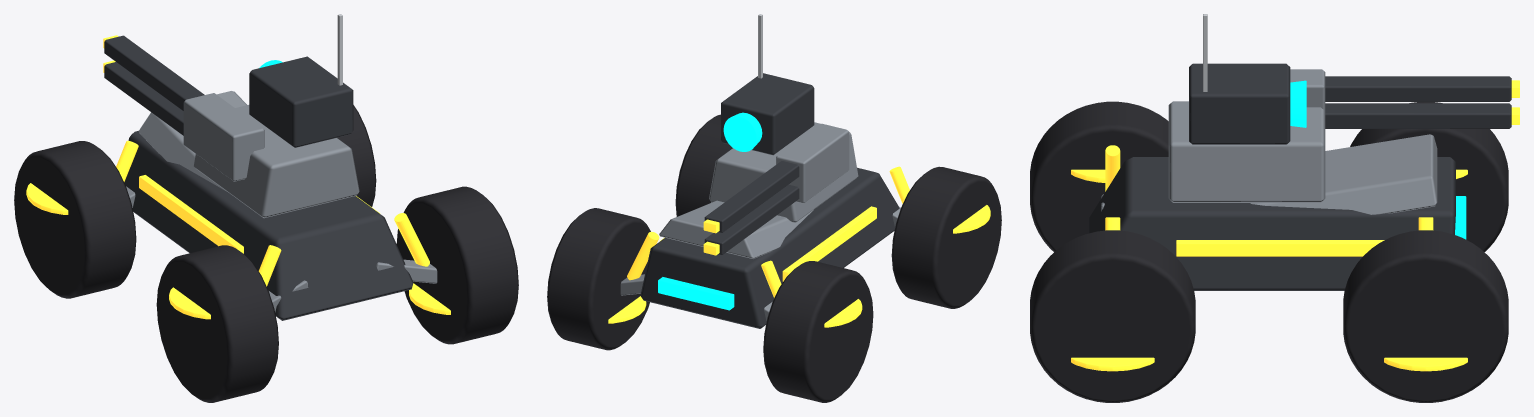
The model's file is mech_spectre.glb.
The picture shows the model from 3 angles, left to right: view 1: azimuth 30°, elevation 25°; view 2: azimuth 150°, elevation 25°; view 3: azimuth 270°, elevation 25°; orthographic projection. The views are drawn at different scales.
Visible parts, largest first — view 1: Spectre_Chassis, Spectre_Tire_0, Spectre_Tire_2, Spectre_Tire_3, Spectre_TurretBase, Spectre_ScannerHead, Spectre_RailReceiver, Spectre_Rail_Bot, Spectre_HoodArmor, Spectre_Rail_Top, Spectre_NeonVent_L, Spectre_Tire_1 (+7 smaller); view 2: Spectre_Chassis, Spectre_Tire_2, Spectre_Tire_0, Spectre_Tire_1, Spectre_ScannerHead, Spectre_TurretBase, Spectre_RailReceiver, Spectre_Tire_3, Spectre_HoodArmor, Spectre_Rail_Bot, Spectre_Rail_Top, Spectre_Headlights (+6 smaller); view 3: Spectre_Tire_3, Spectre_Tire_1, Spectre_Chassis, Spectre_Tire_2, Spectre_TurretBase, Spectre_ScannerHead, Spectre_HoodArmor, Spectre_Tire_0, Spectre_Rail_Top, Spectre_Rail_Bot, Spectre_NeonVent_R, Spectre_NeonRing_1 (+5 smaller).
Boxes of the visible parts, x1,y1,x2,y2 form: Spectre_Chassis: (124,130,413,320); Spectre_Tire_0: (14,141,136,298); Spectre_Tire_2: (156,245,278,402); Spectre_Tire_3: (396,186,518,344); Spectre_TurretBase: (194,105,359,218); Spectre_ScannerHead: (249,56,353,147); Spectre_RailReceiver: (183,93,264,181); Spectre_Rail_Bot: (104,35,204,110); Spectre_HoodArmor: (138,91,246,191); Spectre_Rail_Top: (104,62,183,135); Spectre_NeonVent_L: (139,175,243,253); Spectre_Tire_1: (337,105,376,206); Spectre_Chassis: (640,167,899,328); Spectre_Tire_2: (891,166,1001,308); Spectre_Tire_0: (763,261,873,402); Spectre_Tire_1: (547,208,650,350); Spectre_ScannerHead: (721,73,814,155); Spectre_TurretBase: (709,122,858,222); Spectre_RailReceiver: (776,123,849,203); Spectre_Tire_3: (675,114,732,216); Spectre_HoodArmor: (659,200,813,258); Spectre_Rail_Bot: (704,161,799,232); Spectre_Rail_Top: (704,184,799,255); Spectre_Headlights: (658,277,734,310); Spectre_Tire_3: (1030,230,1195,402); Spectre_Tire_1: (1343,230,1508,402); Spectre_Chassis: (1089,157,1455,290); Spectre_Tire_2: (1030,101,1168,251); Spectre_TurretBase: (1168,101,1325,202); Spectre_ScannerHead: (1189,63,1290,144); Spectre_HoodArmor: (1250,134,1437,214); Spectre_Tire_0: (1350,102,1508,251); Spectre_Rail_Top: (1325,103,1511,128); Spectre_Rail_Bot: (1325,76,1511,101); Spectre_NeonVent_R: (1176,240,1384,256); Spectre_NeonRing_1: (1384,357,1467,371).
Bounding box in the file's own units: 2.76 × 2.49 × 3.28.
